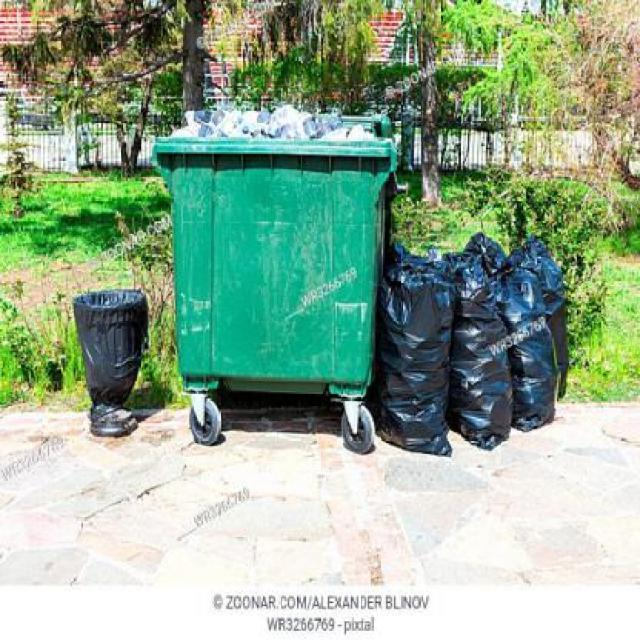garbage container: (155, 132, 397, 468)
